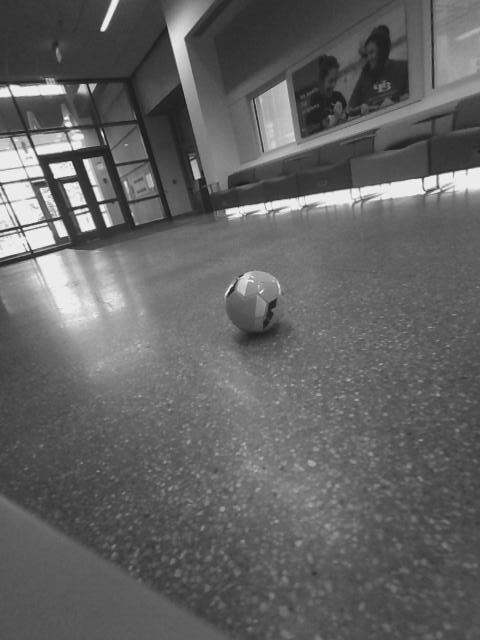ball: (213, 266, 295, 339)
